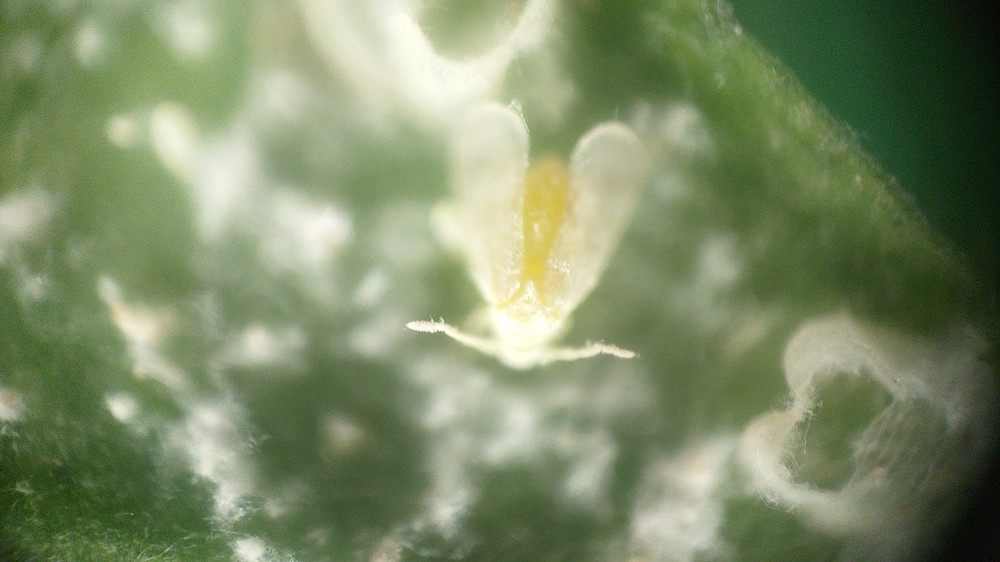Mosca Blanca: (400, 90, 664, 401)
